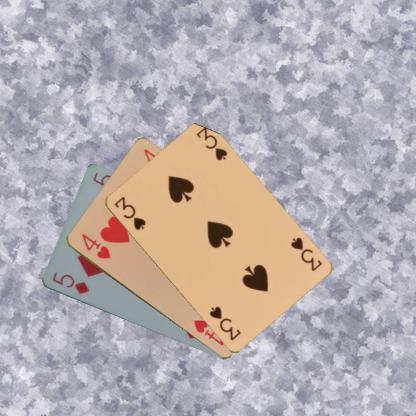3s: (287, 234, 323, 273), (111, 194, 147, 232)
4h: (79, 230, 112, 260)
5d: (49, 269, 90, 296)
